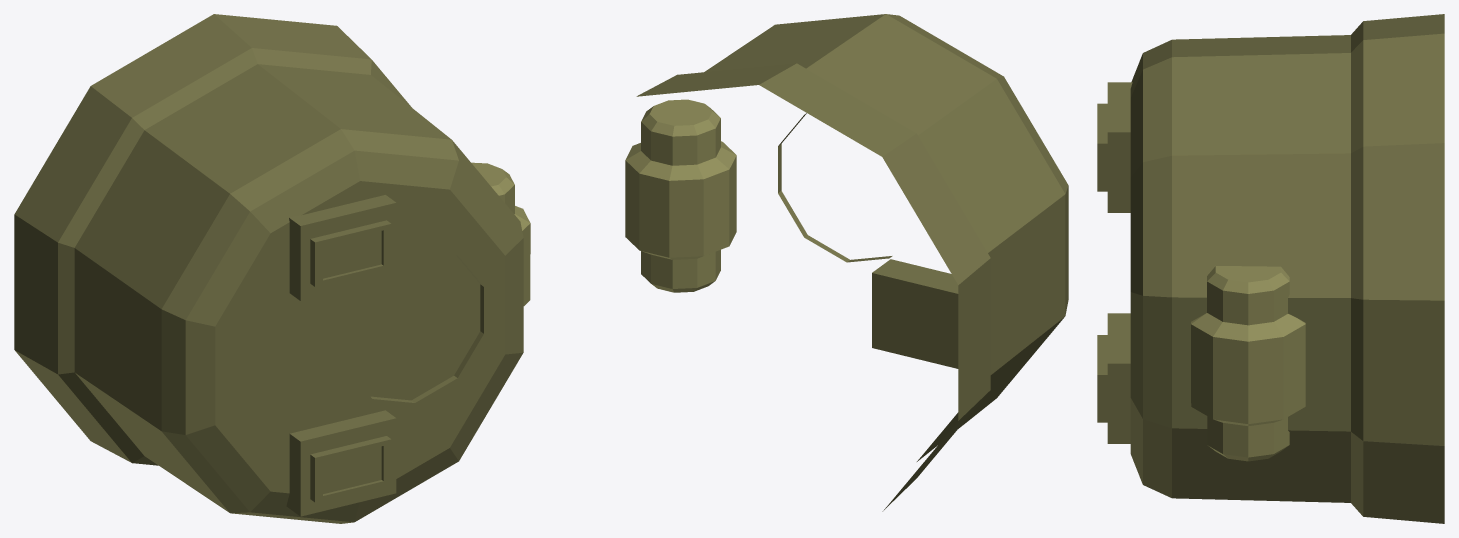
File: Tank_3_Turret.glb
The picture shows the model from 3 angles, left to right: view 1: azimuth 30°, elevation 25°; view 2: azimuth 150°, elevation 25°; view 3: azimuth 270°, elevation 25°; orthographic projection. The views are drawn at different scales.
Visible parts, largest first — view 1: Tank_Turret_Cylinder; view 2: Tank_Turret_Cylinder; view 3: Tank_Turret_Cylinder.
Part boxes in pixels (x1,y1,x2,y2): Tank_Turret_Cylinder: (14,14,530,523); Tank_Turret_Cylinder: (625,14,1068,511); Tank_Turret_Cylinder: (1097,14,1444,523).
Bounding box in the file's own units: 5.22 × 5.25 × 3.51.
